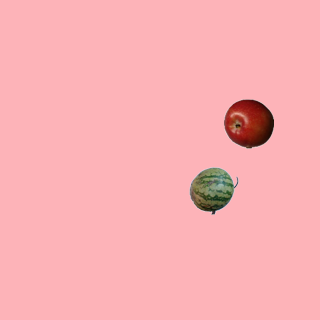Apple Braeburn: (223, 98, 273, 148)
Watermelon: (188, 165, 238, 215)
